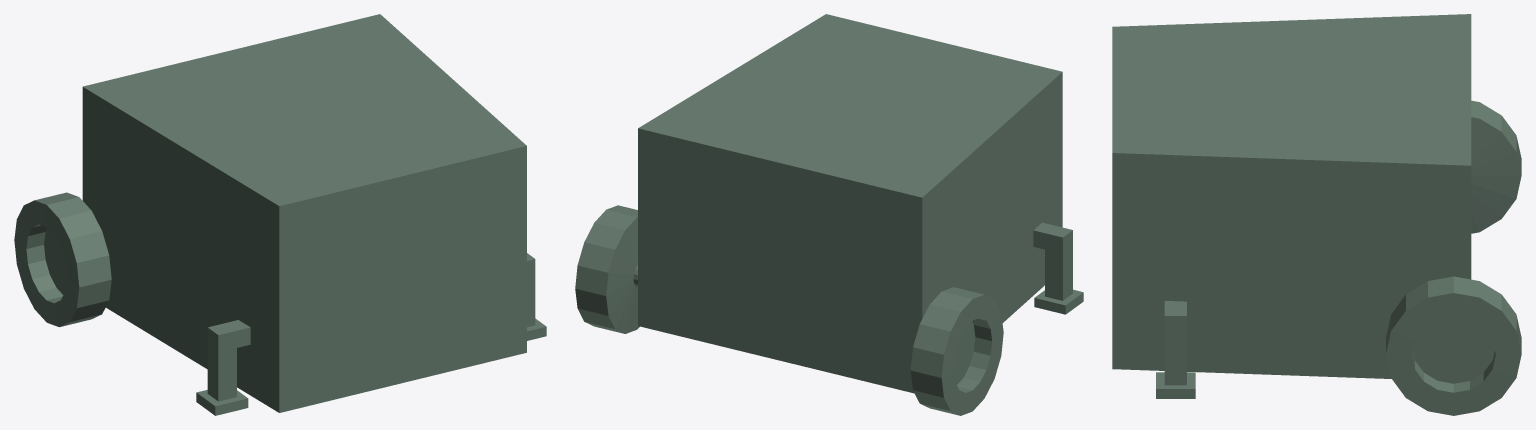
File: Betoniarka-podstawa.fbx
3 renders of one model, left to right at view 1: azimuth 30°, elevation 25°; view 2: azimuth 150°, elevation 25°; view 3: azimuth 270°, elevation 25°, orthographic. The views are drawn at different scales.
Parts seen in each view (by area): view 1: Podstawa; view 2: Podstawa; view 3: Podstawa.
Part boxes in pixels (x1,y1,x2,y2): Podstawa: (14,14,546,415); Podstawa: (575,14,1083,415); Podstawa: (1112,14,1521,415).
Size of the model in its own units: 164 by 89.36 by 145.
